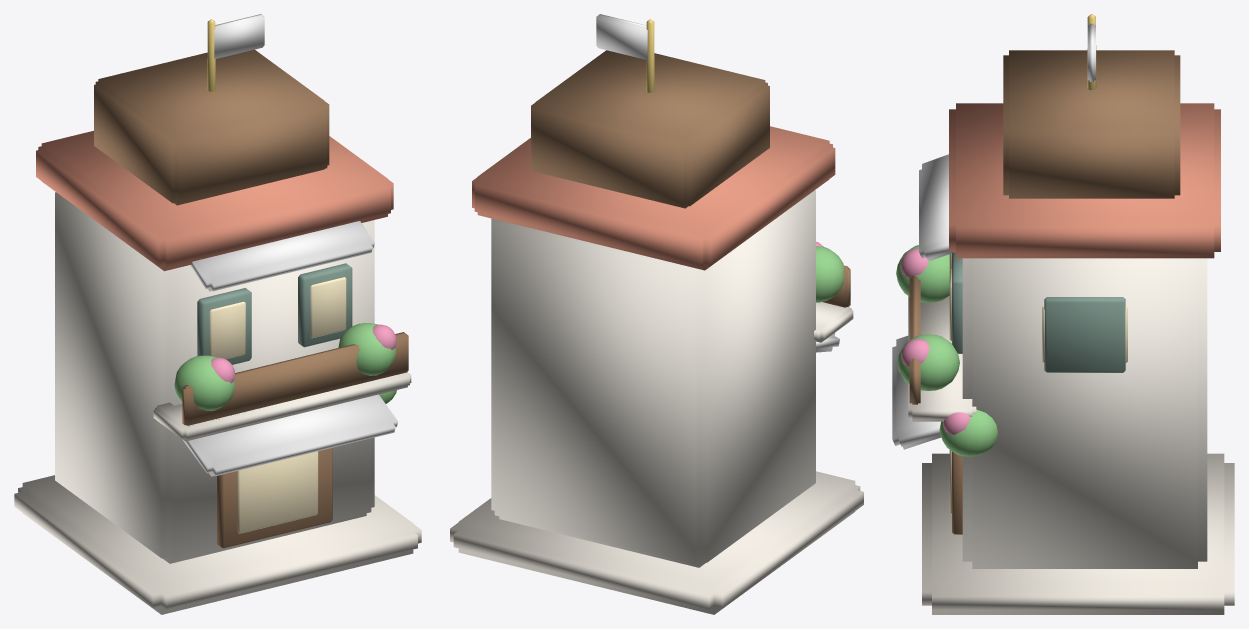
The model's file is lvl2_saigon.glb.
The picture shows the model from 3 angles, left to right: view 1: azimuth 30°, elevation 25°; view 2: azimuth 150°, elevation 25°; view 3: azimuth 270°, elevation 25°; orthographic projection. The views are drawn at different scales.
Visible parts, largest first — view 1: lvl2_saigon; view 2: lvl2_saigon; view 3: lvl2_saigon.
Boxes of the visible parts, bbox=[...] form: lvl2_saigon: bbox=[14, 14, 421, 614]; lvl2_saigon: bbox=[450, 14, 863, 614]; lvl2_saigon: bbox=[892, 14, 1234, 614].
Size of the model in its own units: 0.48 by 0.87 by 0.5034.
